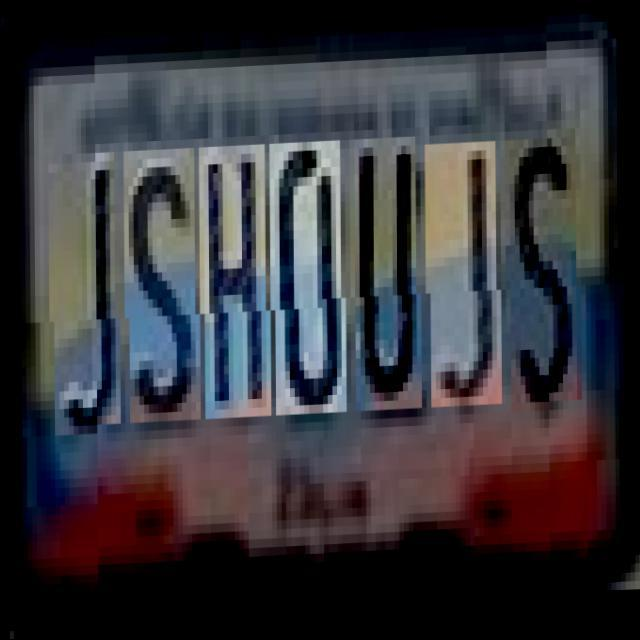0: (274, 144, 346, 418)
H: (203, 146, 271, 422)
J: (429, 146, 501, 412), (52, 152, 120, 428)
S: (509, 143, 582, 418), (128, 150, 200, 424)
U: (354, 140, 422, 416)
